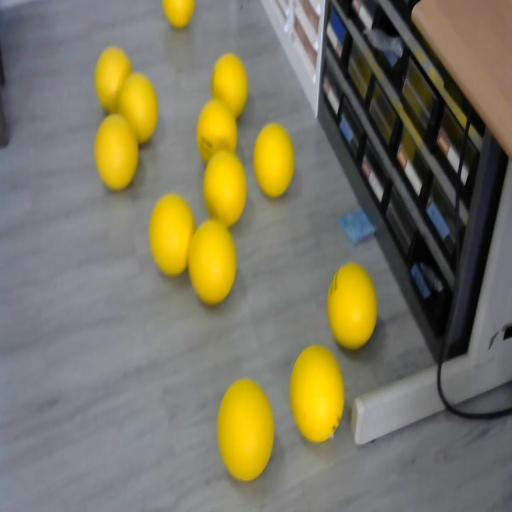FUEL: (216, 377, 274, 481), (288, 344, 345, 442), (186, 216, 238, 305), (326, 260, 378, 349), (148, 191, 196, 277), (202, 149, 248, 228), (94, 114, 140, 190), (253, 122, 295, 197), (94, 46, 132, 113), (211, 53, 249, 117), (161, 0, 195, 29)
